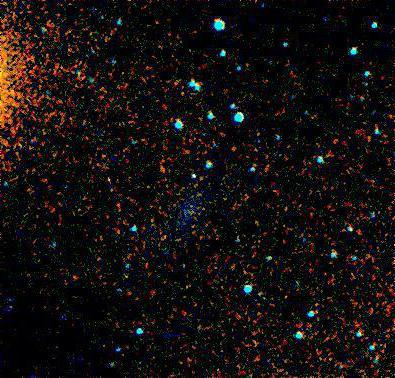star: (218, 135, 248, 165)
